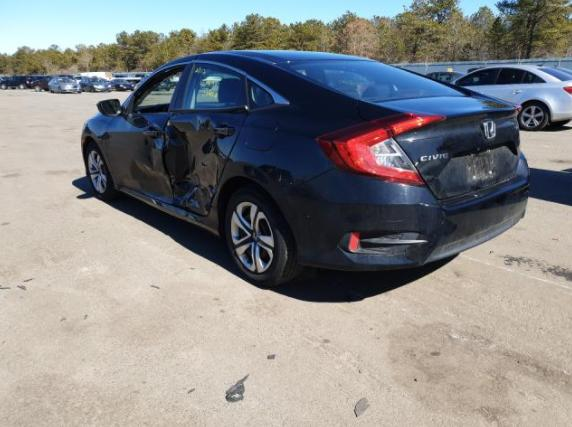Back-bumper: (275, 150, 531, 273)
Back-door: (161, 59, 249, 218)
Back-wheel: (223, 184, 307, 288)
Back-window: (182, 64, 246, 109), (248, 79, 275, 109)
Back-windshield: (271, 60, 470, 104)
Fender: (81, 111, 118, 190)
Front-door: (105, 60, 195, 205)
Front-wheel: (85, 141, 129, 204)
Front-window: (133, 65, 188, 114)
Mirror: (96, 97, 129, 121)
Quarter-panel: (210, 104, 404, 210)
Rocker-panel: (117, 185, 220, 236)
Roof: (201, 49, 381, 63)
Tail-light: (312, 110, 449, 189)
Trunk: (376, 91, 522, 201)
